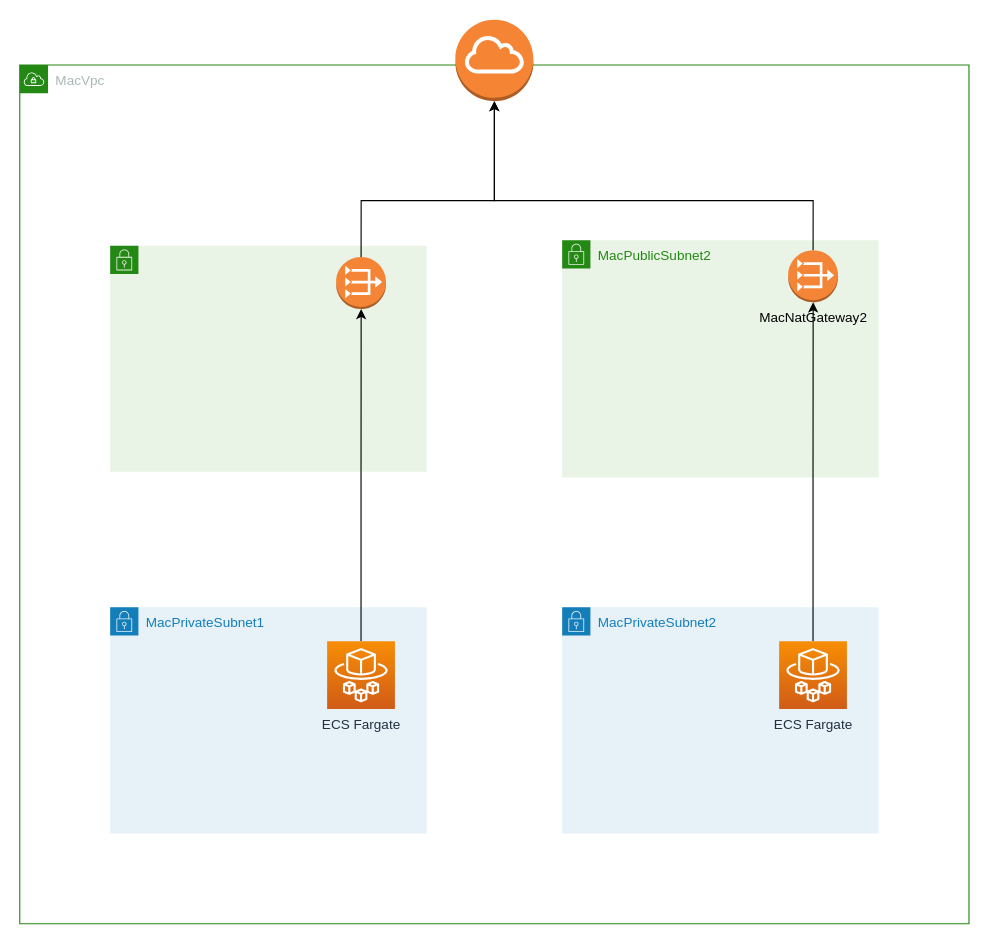
Image size: 989x944. Some labels were removed from this diagram. Each missing label, with the box of its shape:
Internet Gateway: (454, 19, 533, 101)
MacNatGateway1: (335, 256, 386, 309)
MacPublicSubnet1: (109, 245, 427, 472)
